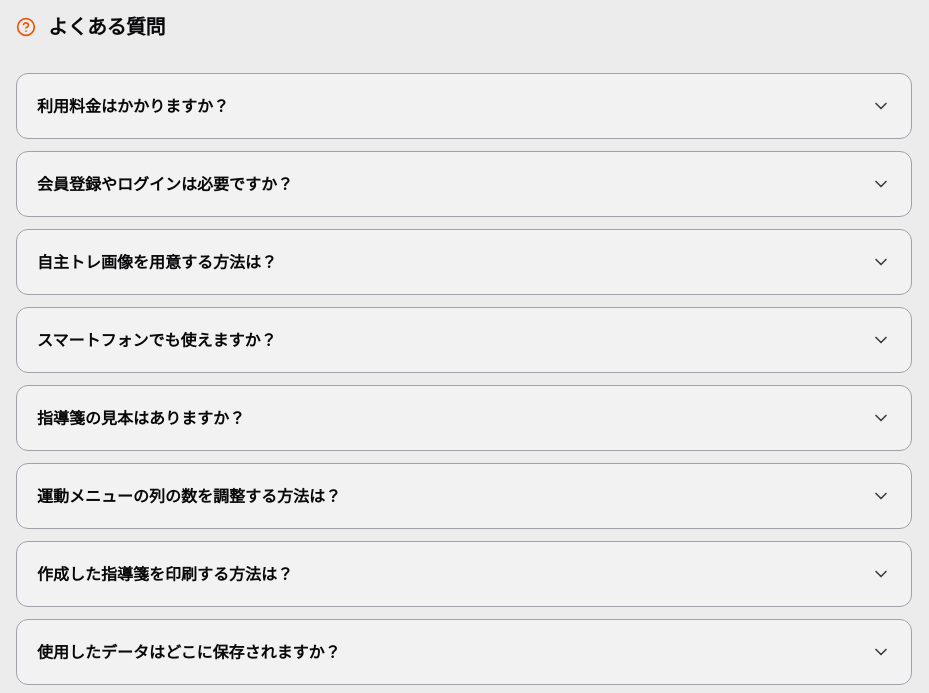
Test: FAQ › アコーディオン動作 › 質問クリックで回答が表示される
Click the button "利用料金はかかりますか？": [133, 106] box [17, 74, 911, 138]
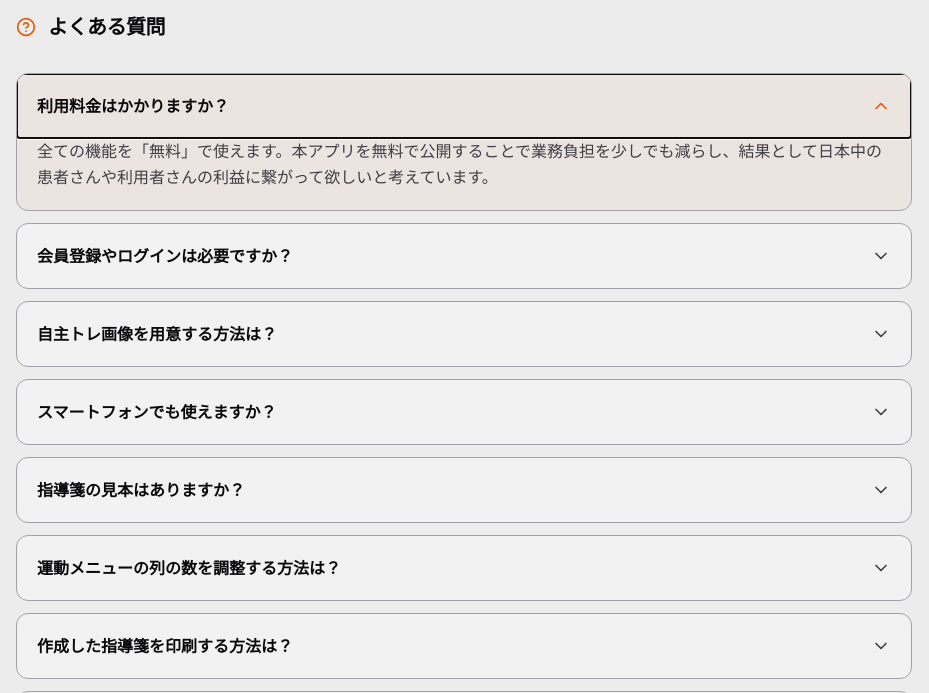
Check: the button "利用料金はかかりますか？" is expanded, box [17, 74, 911, 138]
Check: the text "全ての機能を「無料」で使えます。本アプリを無料で公開することで業務負担を少しでも減らし、結果として日本中の患者さんや利用者さんの利益に繋がって欲しいと考えています。" is shown, box [37, 141, 882, 187]
